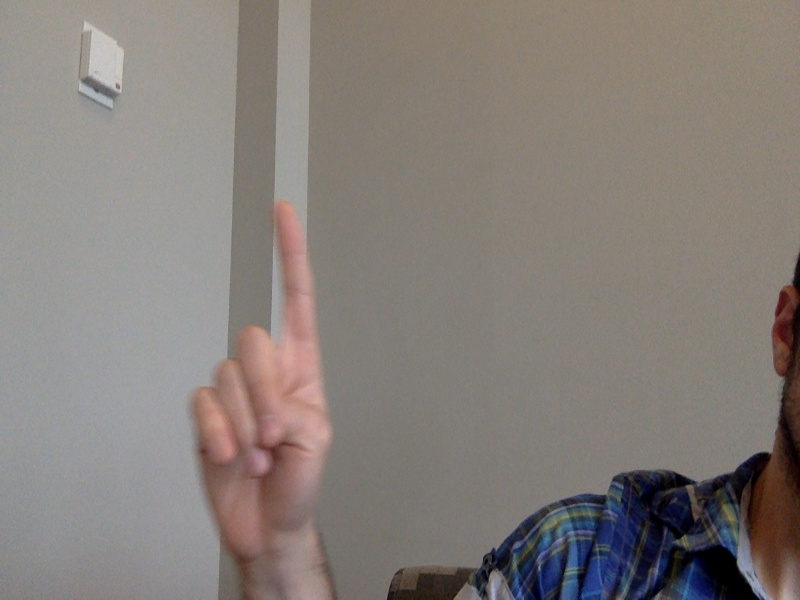1-hand: (189, 202, 337, 563)
